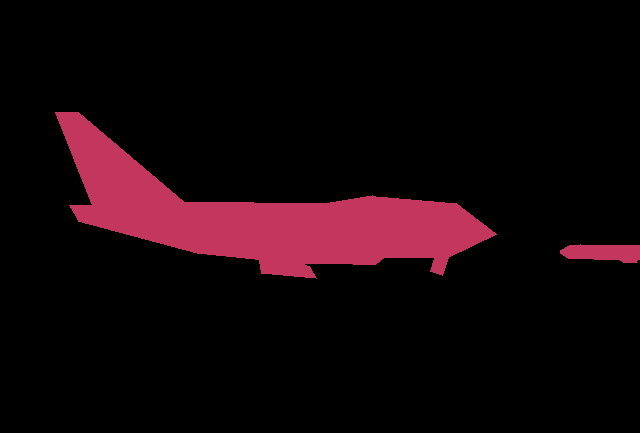Airplane: (55, 112, 496, 278), (560, 244, 640, 263)
